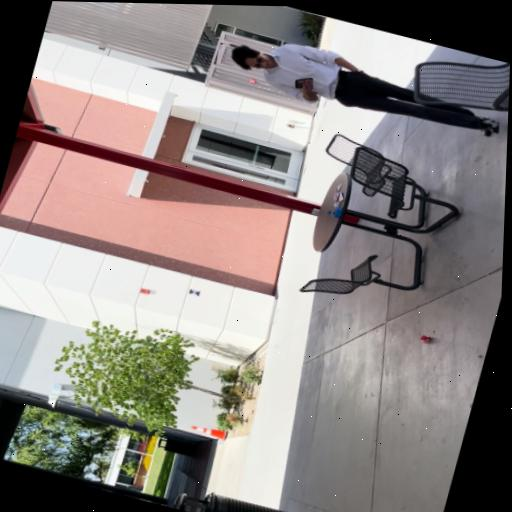target2: (189, 288, 201, 297)
